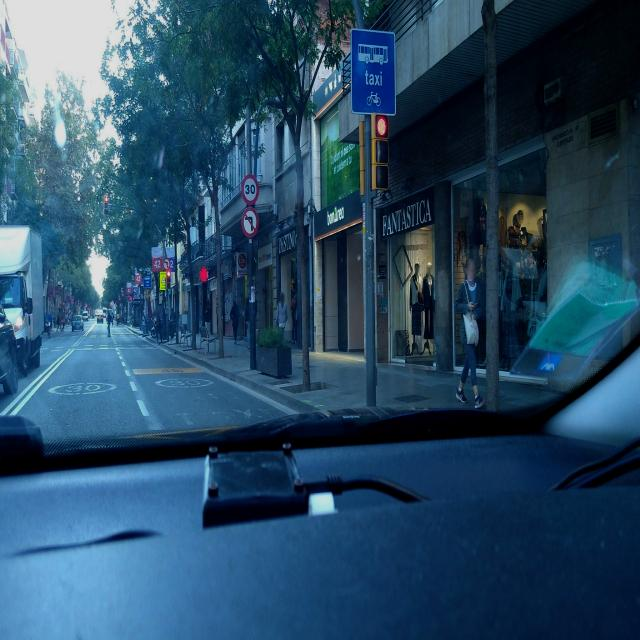bike: (46, 322, 53, 338)
car: (0, 288, 19, 409), (71, 314, 84, 333)
